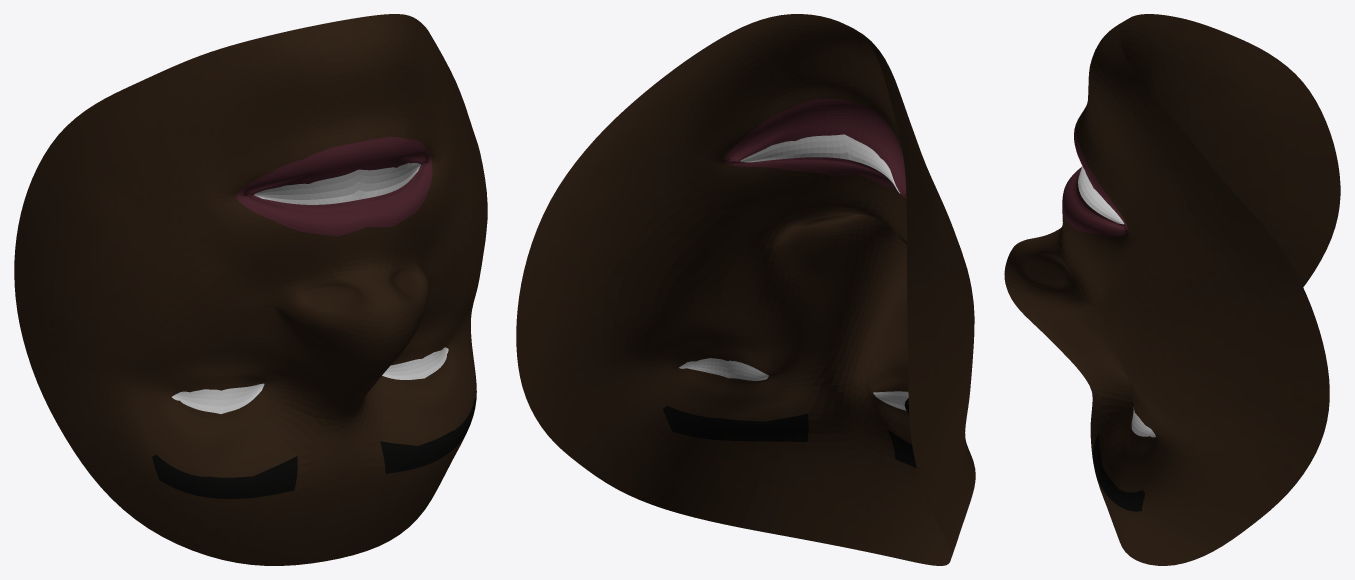
File: VID-20250515-WA0007_f_00638.obj
The picture shows the model from 3 angles, left to right: view 1: azimuth 30°, elevation 25°; view 2: azimuth 150°, elevation 25°; view 3: azimuth 270°, elevation 25°; orthographic projection. The views are drawn at different scales.
Visible parts, largest first — view 1: face_mesh_subdivided; view 2: face_mesh_subdivided; view 3: face_mesh_subdivided.
Part boxes in pixels (<box>): face_mesh_subdivided: <box>14,14,487,565</box>; face_mesh_subdivided: <box>516,14,975,565</box>; face_mesh_subdivided: <box>1004,14,1340,565</box>.
Bounding box in the file's own units: 0.4596 × 0.5775 × 0.3542.
